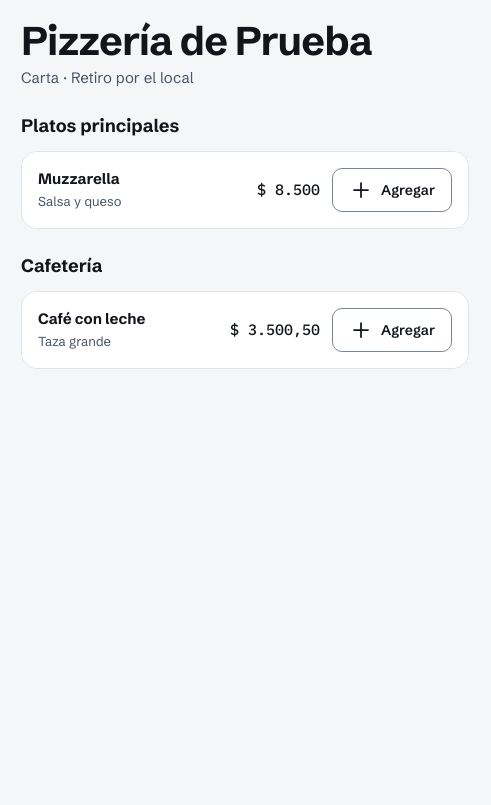
Scenario: public page › shows the menu by category and adds to the cart with the bar
expect the heading "Pizzería de Prueba" is shown: met, box [21,16,372,65]
expect the heading "Platos principales" is shown: met, box [21,114,179,137]
Click the button with aria-label "Agregar Muzzarella" at [392, 190], box [332,168,452,212]
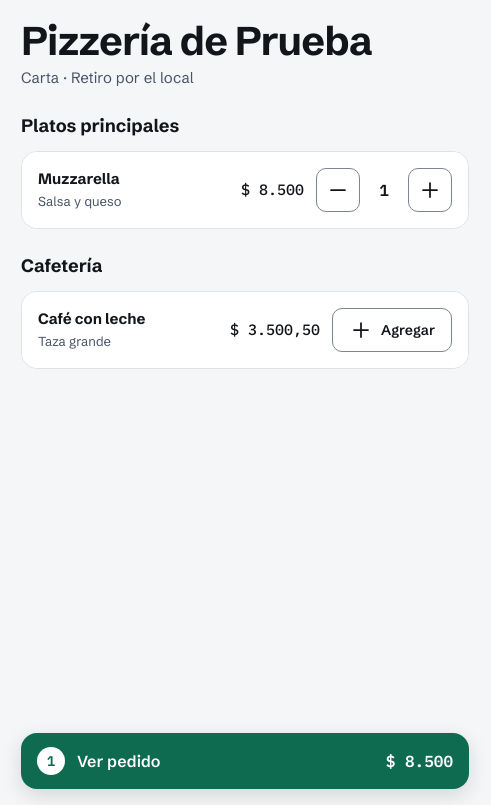
Click the button with aria-label "Agregar Café con leche" at [392, 330], box [332,308,452,352]
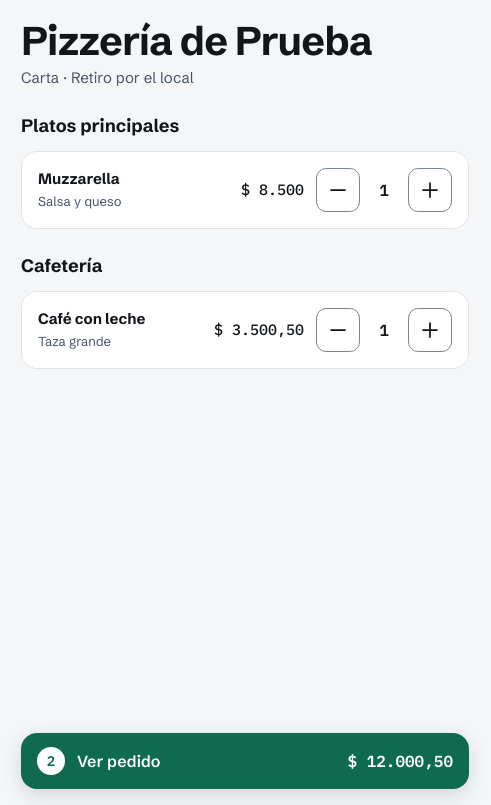
Click the button named "Agregar uno más de Café con leche" at [430, 330], box [408,308,452,352]
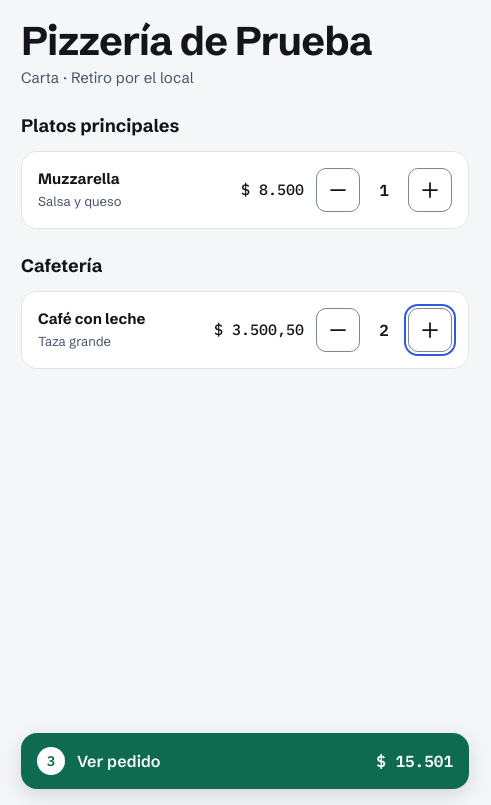
expect the link "3 Ver pedido $ 15.501" is shown: met, box [21,733,469,789]
